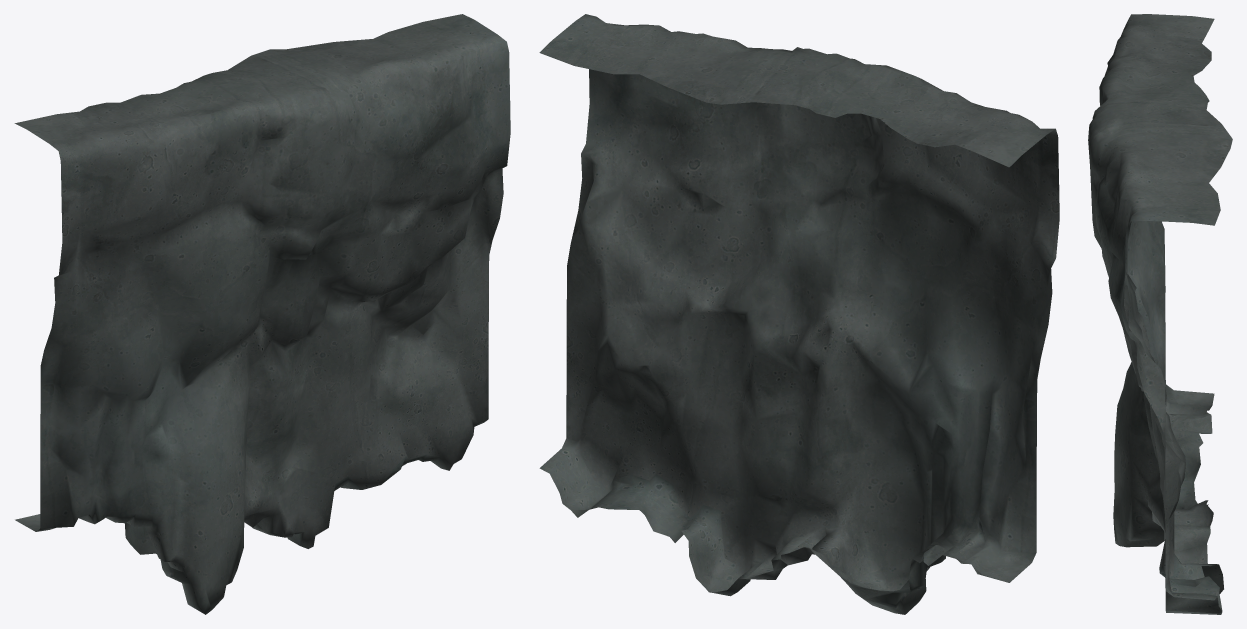
File: Cliff_Cap05.fbx
3 renders of one model, left to right at view 1: azimuth 30°, elevation 25°; view 2: azimuth 150°, elevation 25°; view 3: azimuth 270°, elevation 25°, orthographic. The views are drawn at different scales.
Parts seen in each view (by area): view 1: SM_CliffCap_05.mo; view 2: SM_CliffCap_05.mo; view 3: SM_CliffCap_05.mo.
Boxes of the visible parts, <box> form: SM_CliffCap_05.mo: <box>14,14,510,614</box>; SM_CliffCap_05.mo: <box>539,14,1059,614</box>; SM_CliffCap_05.mo: <box>1088,14,1232,614</box>.
Size of the model in its own units: 1186 by 1270 by 351.
1 material, 1 textured.
